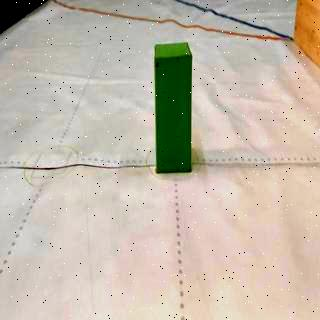greenbox: (154, 41, 192, 172)
